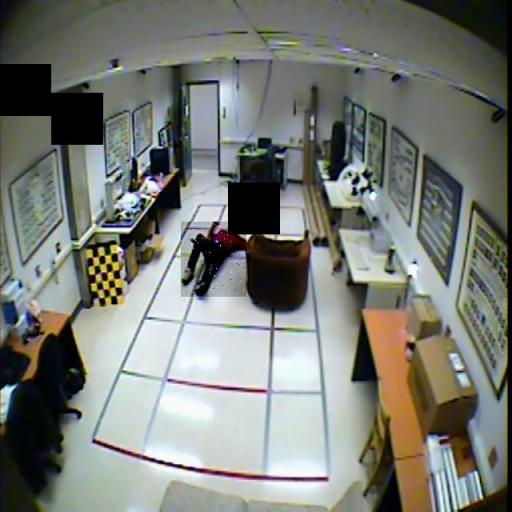Fall: (181, 223, 246, 300)
